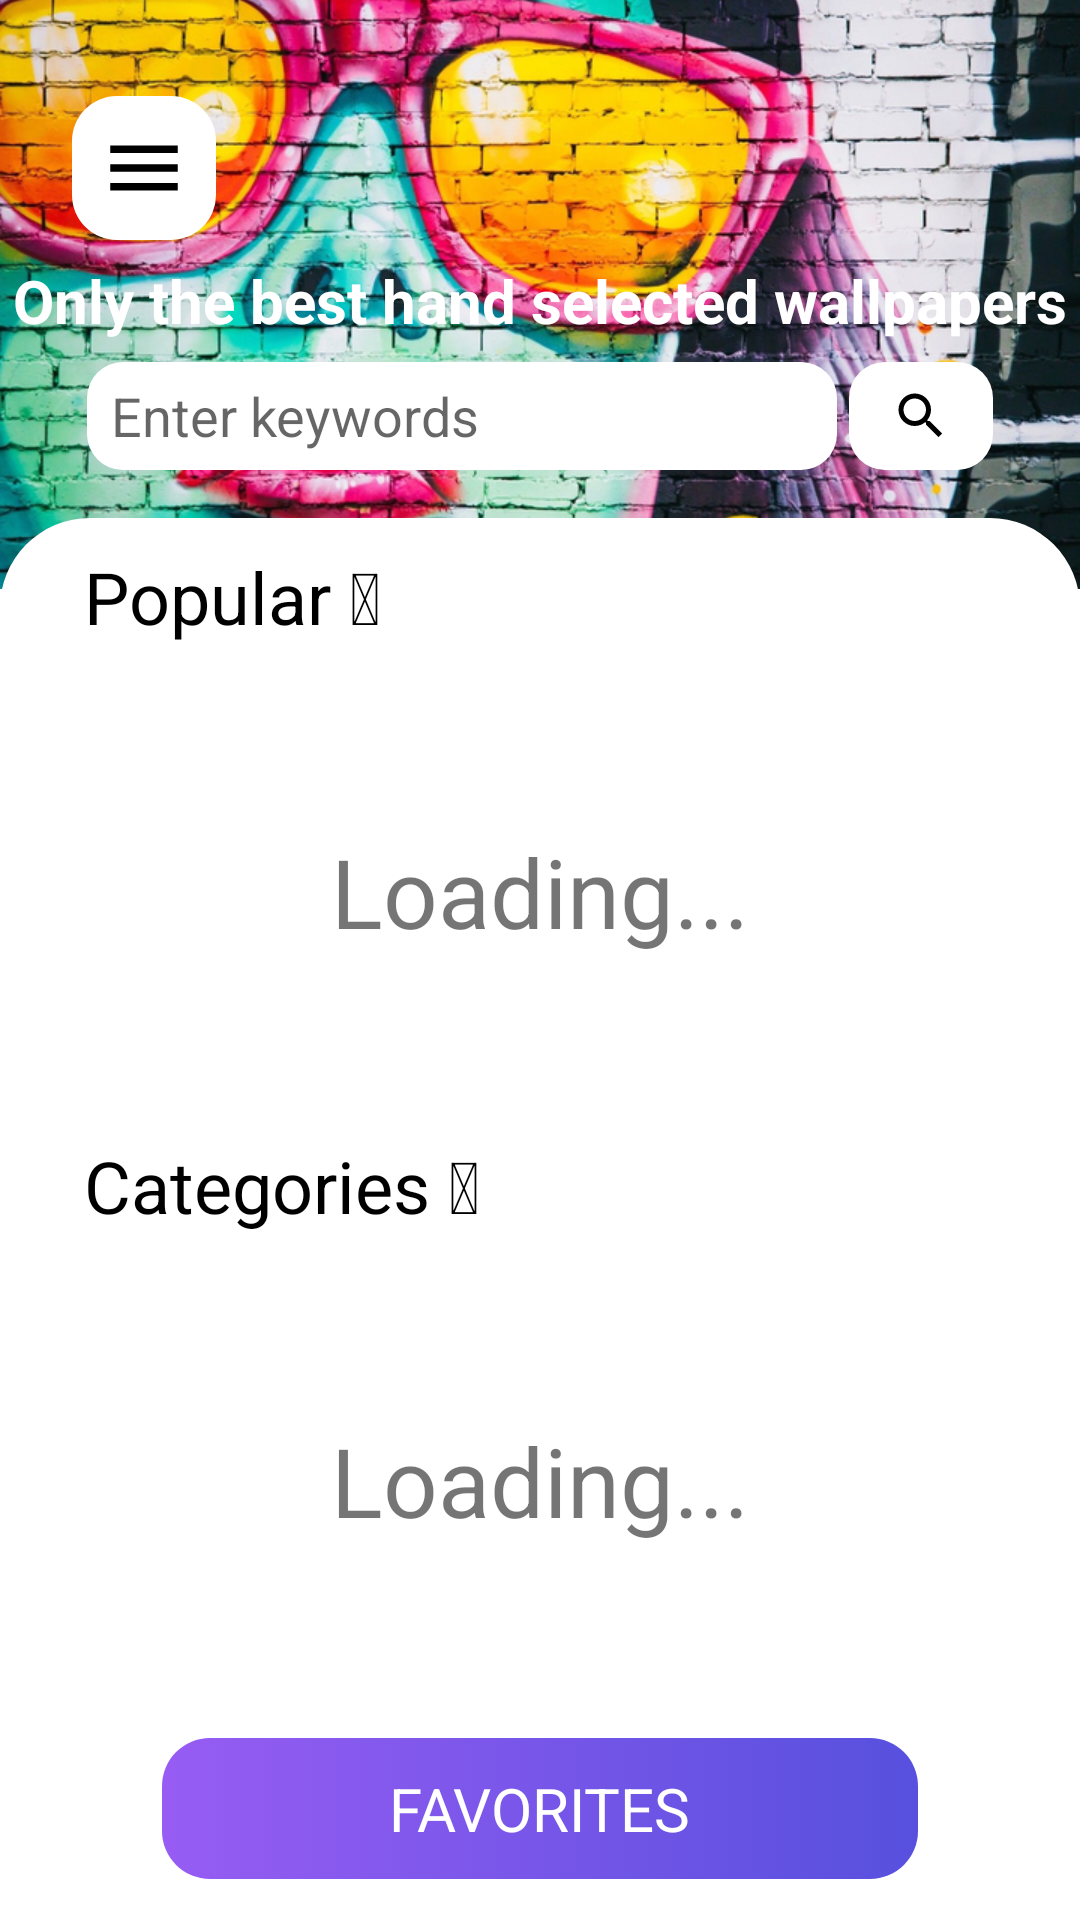

Named icons in this screenshot (1080 × 1920) and their centers, (x,y):
menu: (144,168)
search: (921,416)
